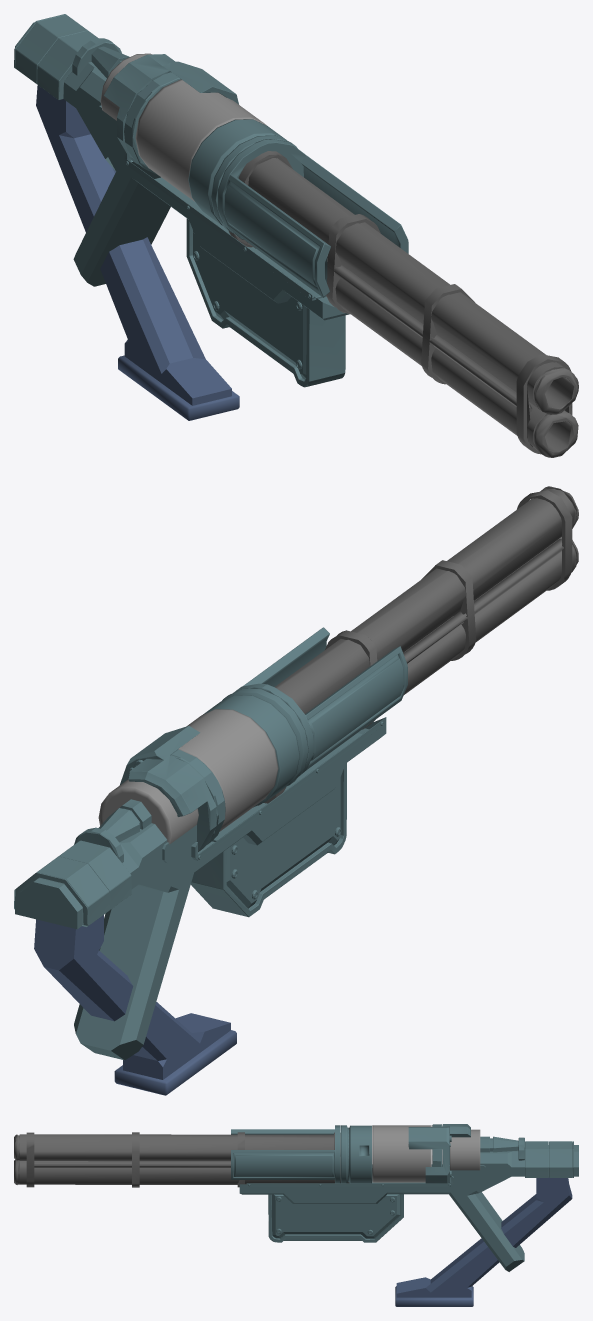
The model's file is Werapon 3 EX.fbx.
3 views of the same model, one above another, from view 1: azimuth 30°, elevation 25°; view 2: azimuth 150°, elevation 25°; view 3: azimuth 270°, elevation 25° (orthographic). The views are drawn at different scales.
Visible parts, largest first — view 1: Body_01, Barrel_04, Grip, Front Detail, Middle Cyli., Middle Detail, Back Cyli.; view 2: Body_01, Barrel_04, Grip, Front Detail, Middle Cyli., Middle Detail, Back Cyli.; view 3: Body_01, Barrel_04, Grip, Front Detail, Middle Cyli., Middle Detail, Back Cyli..
Boxes of the visible parts, box(x1,y1,x2,y2) form: Body_01: box(14, 14, 349, 387); Barrel_04: box(228, 151, 578, 457); Grip: box(36, 85, 239, 420); Front Detail: box(217, 139, 408, 297); Middle Cyli.: box(135, 79, 266, 201); Middle Detail: box(188, 119, 303, 233); Back Cyli.: box(100, 53, 152, 120); Body_01: box(14, 717, 386, 1060); Barrel_04: box(258, 486, 578, 805); Grip: box(34, 915, 236, 1095); Front Detail: box(233, 627, 407, 776); Middle Cyli.: box(178, 709, 278, 831); Middle Detail: box(203, 688, 308, 807); Back Cyli.: box(98, 779, 198, 844); Body_01: box(239, 1124, 578, 1271); Barrel_04: box(14, 1132, 349, 1187); Grip: box(395, 1177, 572, 1306); Front Detail: box(231, 1125, 340, 1183); Middle Cyli.: box(372, 1125, 431, 1182); Middle Detail: box(341, 1125, 371, 1183); Back Cyli.: box(450, 1129, 480, 1170).
Size of the model in its own units: 73.1 by 222 by 648.
